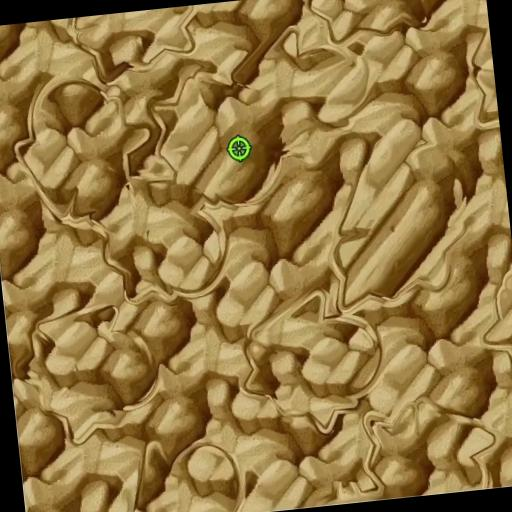Target: (6, 68, 162, 242), (233, 280, 393, 444), (143, 63, 294, 218), (18, 294, 168, 450), (320, 181, 463, 327), (88, 171, 236, 308), (361, 384, 506, 498), (64, 5, 207, 91), (129, 426, 249, 512), (304, 0, 435, 55), (475, 259, 512, 395)
